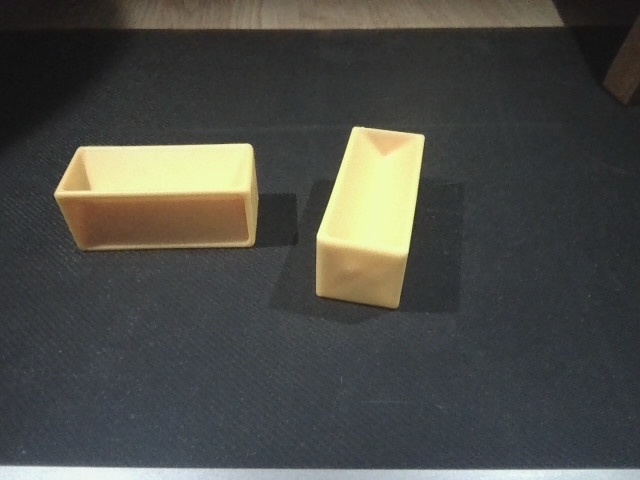YellowSample: (53, 141, 265, 252), (313, 126, 428, 310)
